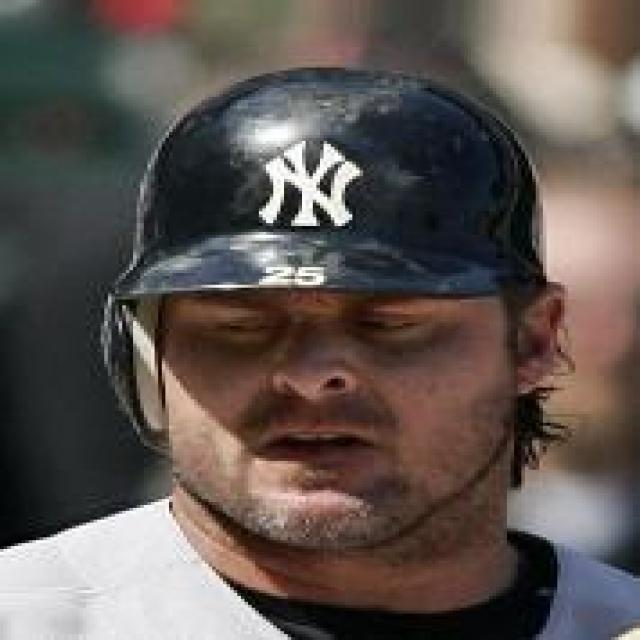nomask: (90, 94, 590, 587)
